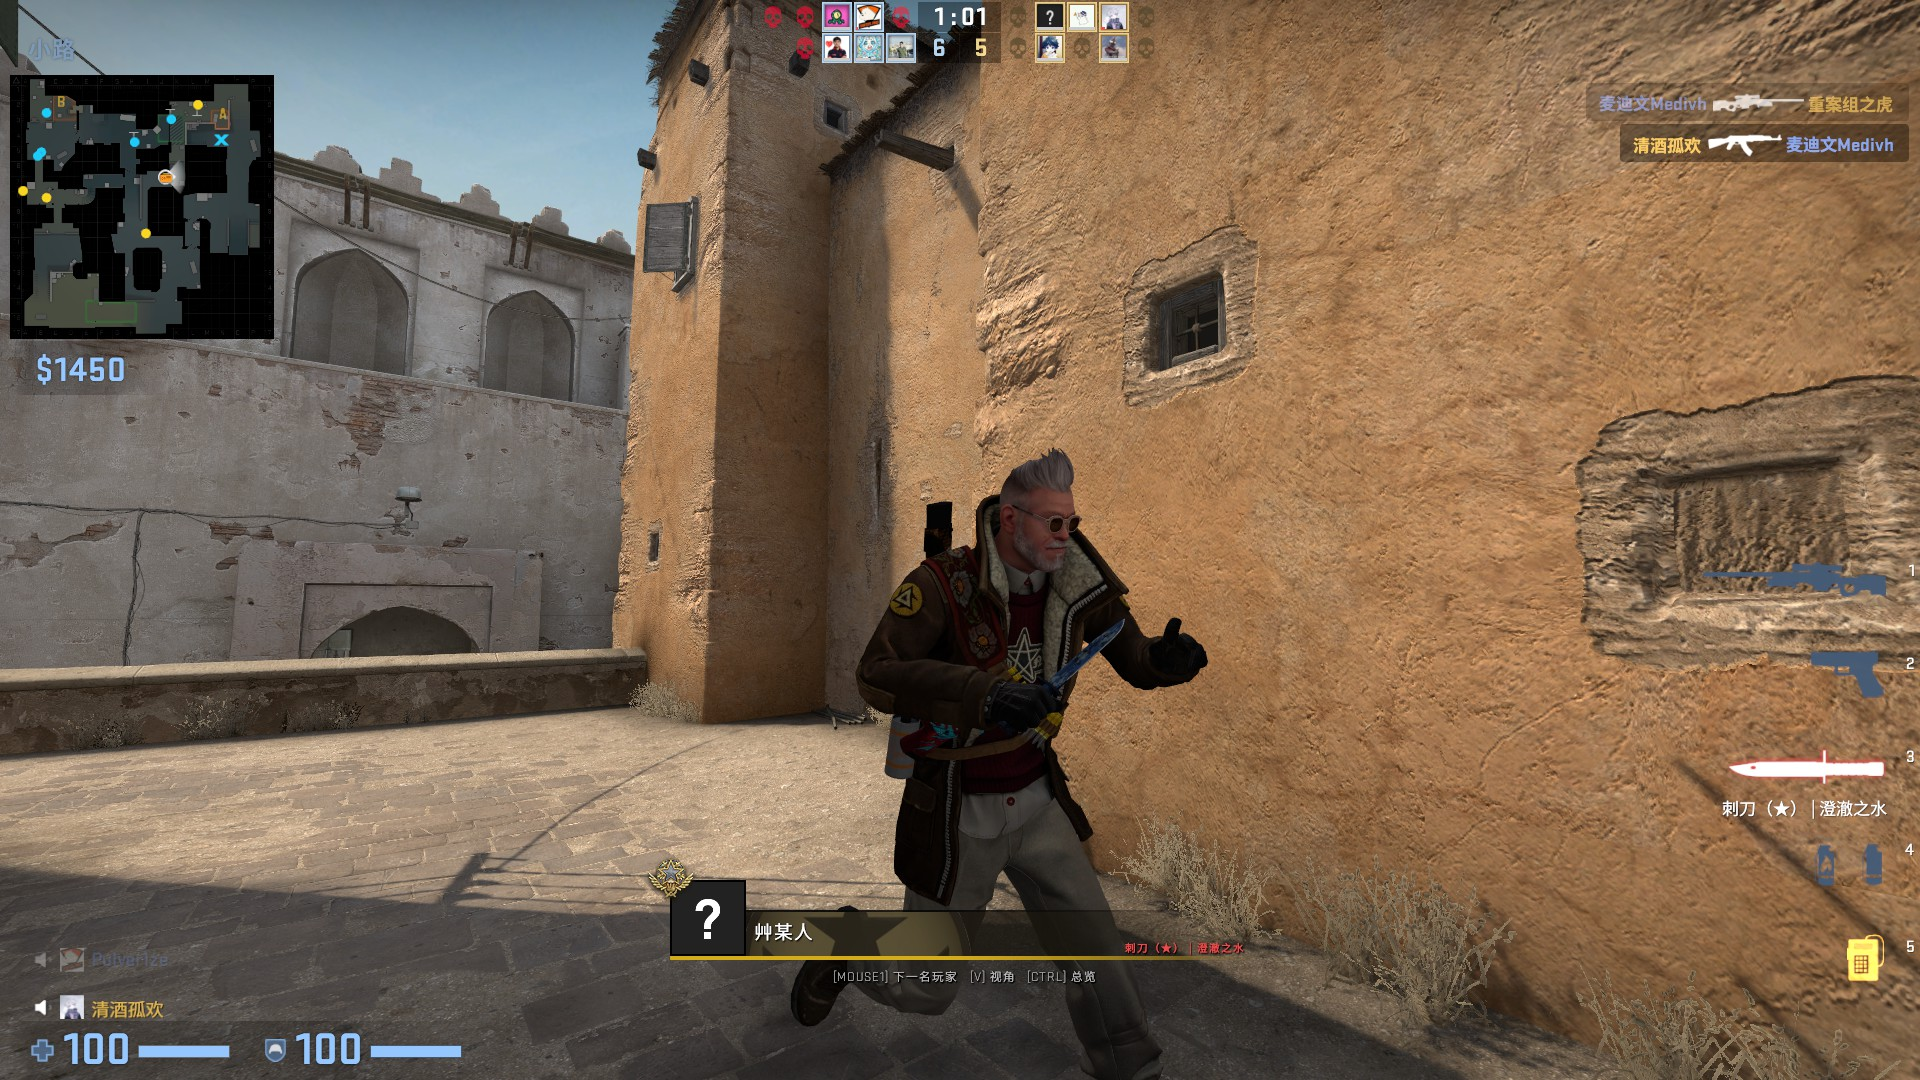head: (990, 448, 1083, 574)
